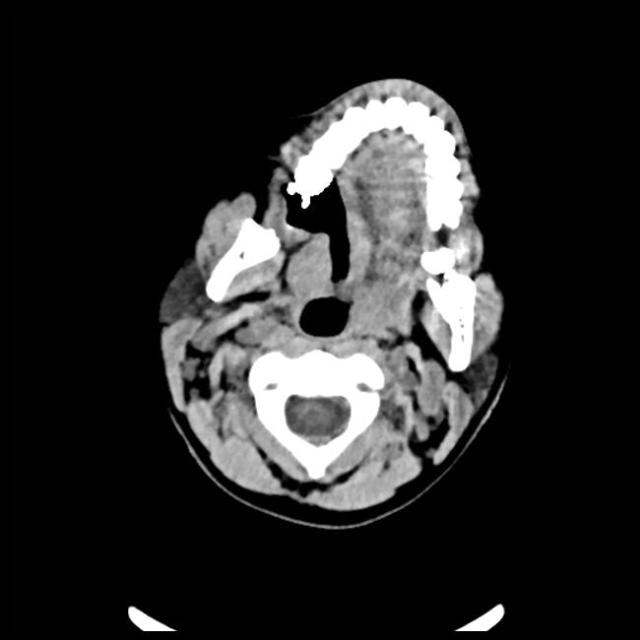lesion: (153, 74, 511, 529)
